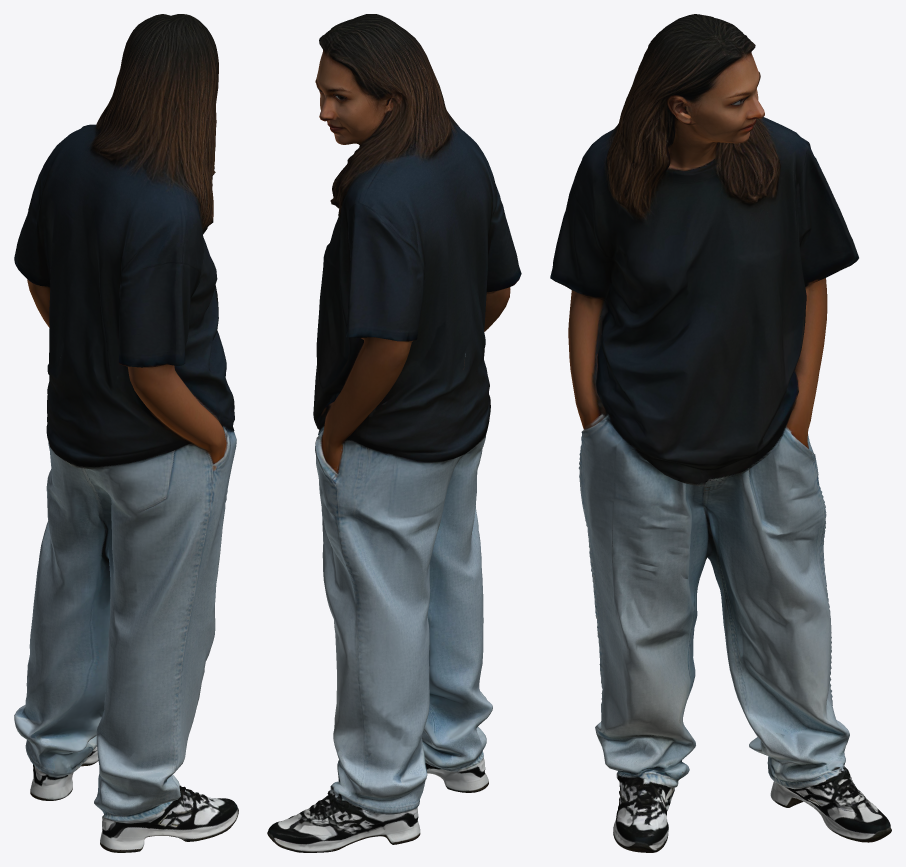
3 renders of one model, left to right at view 1: azimuth 30°, elevation 25°; view 2: azimuth 150°, elevation 25°; view 3: azimuth 270°, elevation 25°, orthographic. The views are drawn at different scales.
Parts seen in each view (by area): view 1: tripo_node_5697d0cd-f5ac-48cb-bcdb-9ee7b515b5ff; view 2: tripo_node_5697d0cd-f5ac-48cb-bcdb-9ee7b515b5ff; view 3: tripo_node_5697d0cd-f5ac-48cb-bcdb-9ee7b515b5ff.
Boxes of the visible parts, x1,y1,x2,y2 form: tripo_node_5697d0cd-f5ac-48cb-bcdb-9ee7b515b5ff: [14, 14, 238, 852]; tripo_node_5697d0cd-f5ac-48cb-bcdb-9ee7b515b5ff: [267, 14, 521, 852]; tripo_node_5697d0cd-f5ac-48cb-bcdb-9ee7b515b5ff: [550, 14, 891, 852].
Size of the model in its own units: 0.2008 by 0.9997 by 0.3786.
1 material, 1 textured.
